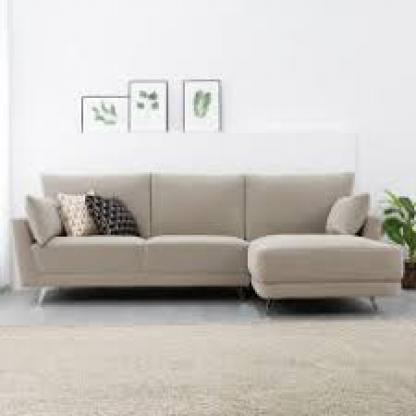sofa: (18, 172, 405, 307)
